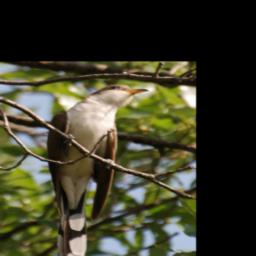Cuckoo: (44, 83, 150, 256)
